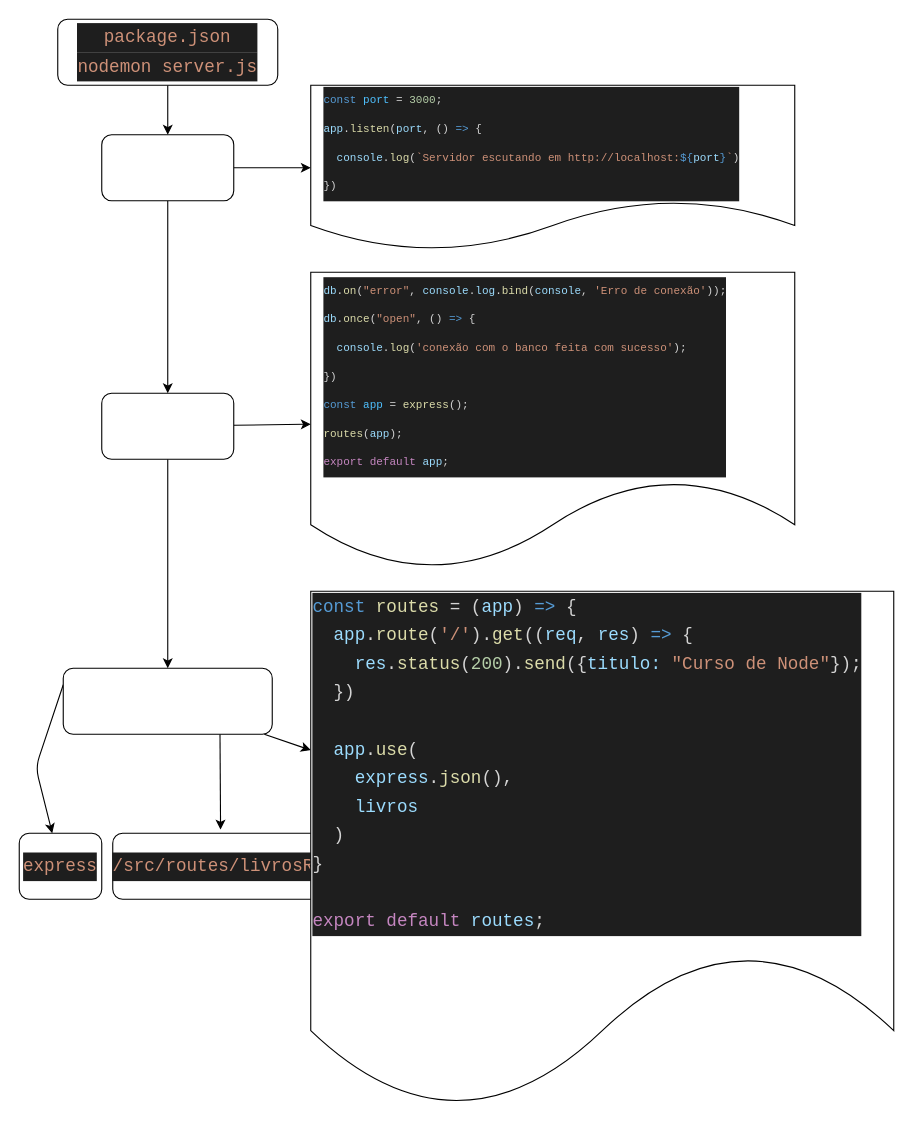
The diagram is 913 pixels wide and 1128 high, and some of its shapes have lost their labels. Each missing label, with the centre of its shape:
/src/app.js: point 167,425
/src/routes/index.js: point 167,700
server.js: point 167,167
